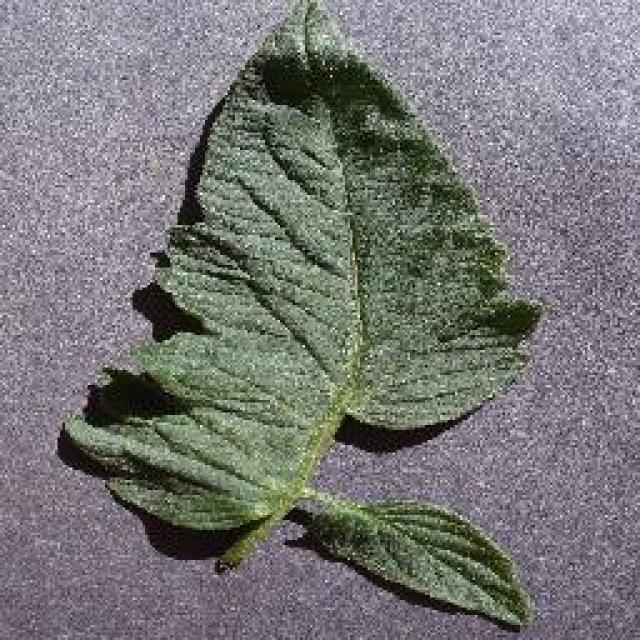Tomato___healthy: (60, 2, 546, 626)
